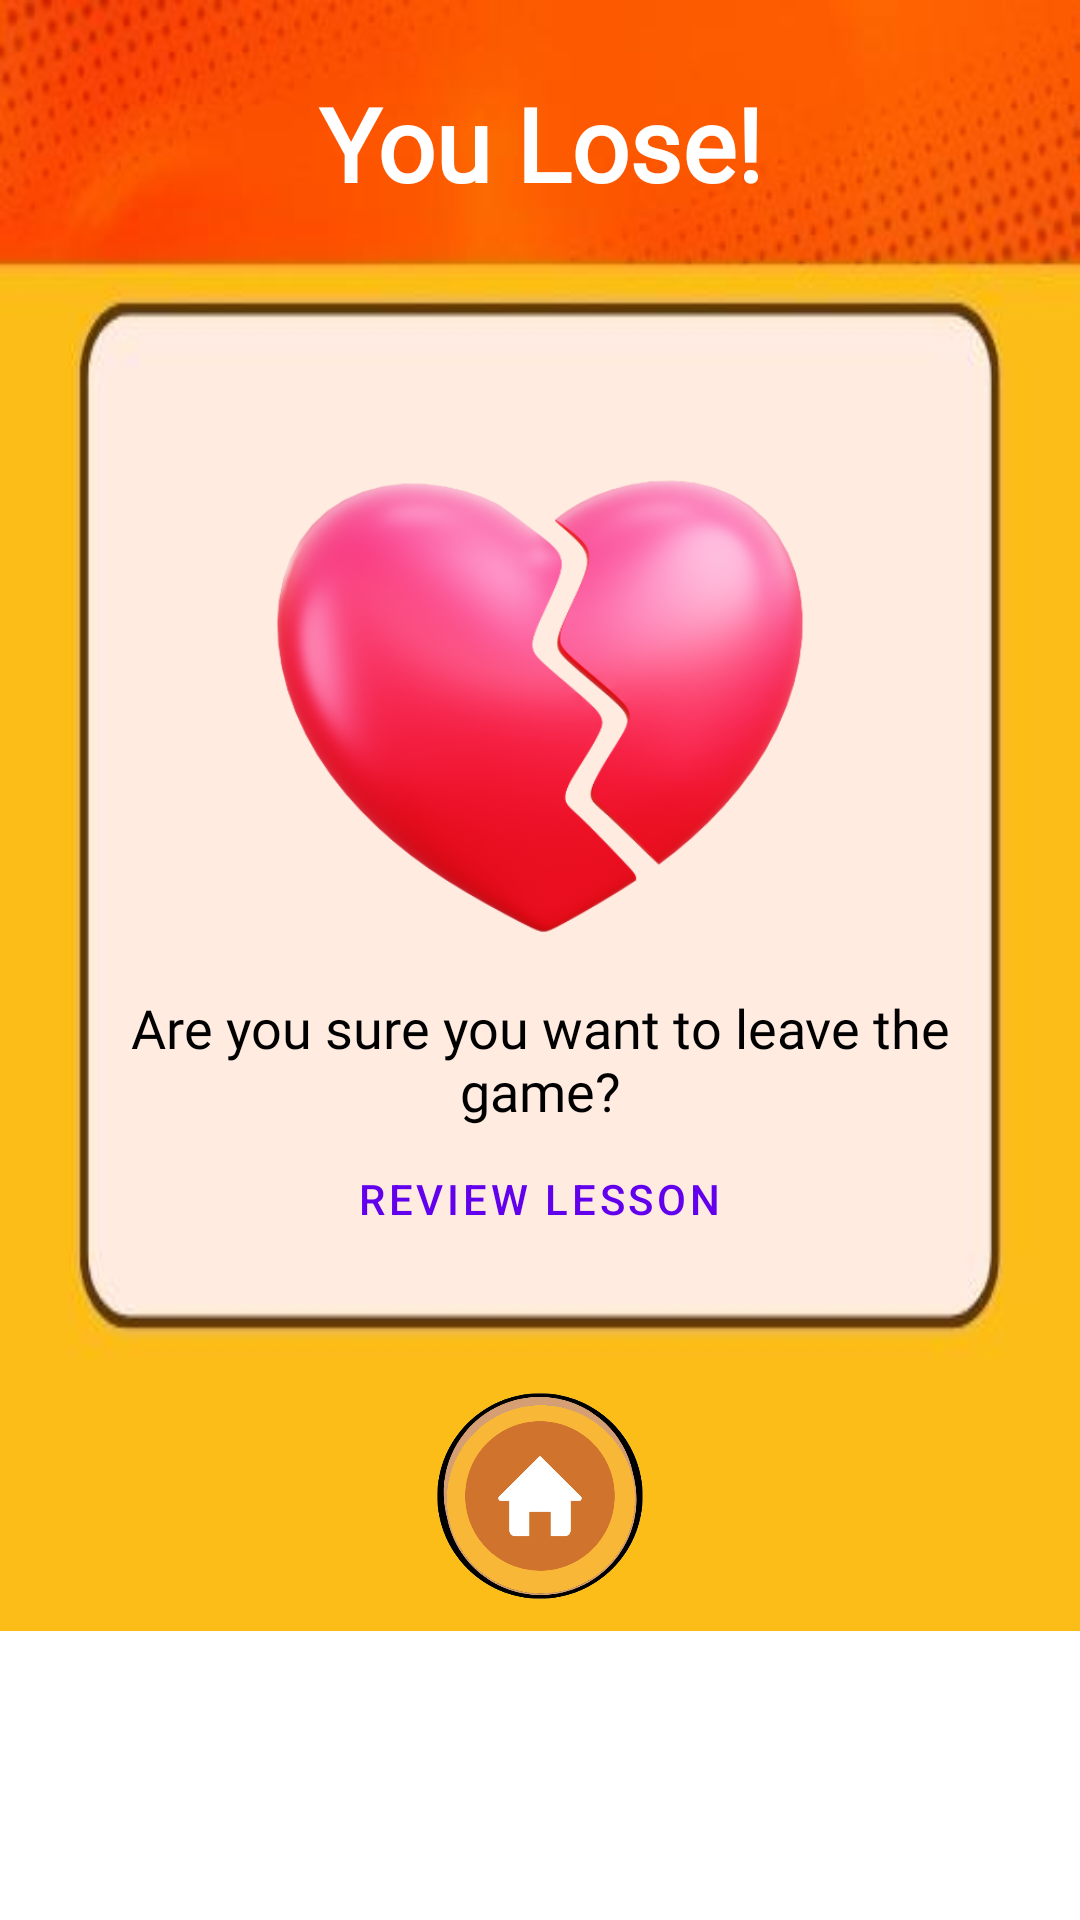

Icon click points for this 1080px x 1920px phone screenshot, format [x,y]:
home: [540,1496]
